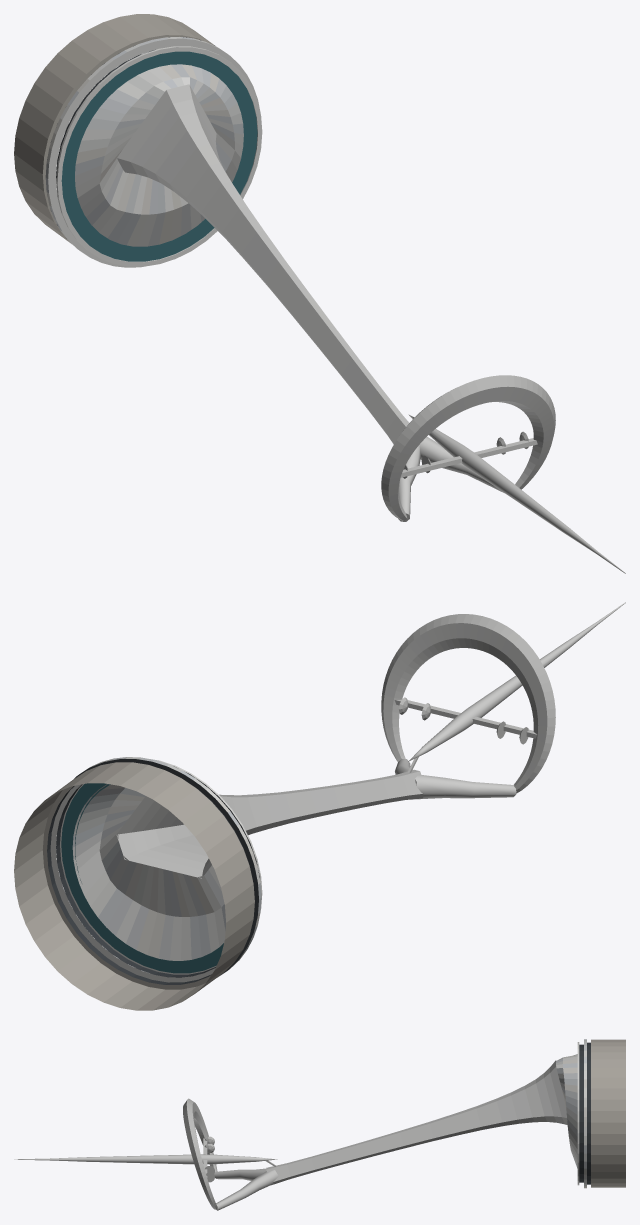
Rendered from torre-calatrava.glb.
3 renders of one model, top to bottom at view 1: azimuth 30°, elevation 25°; view 2: azimuth 150°, elevation 25°; view 3: azimuth 270°, elevation 25°, orthographic. The views are drawn at different scales.
Visible parts, largest first — view 1: torre-calatrava; view 2: torre-calatrava; view 3: torre-calatrava.
Part boxes in pixels (x1=…): torre-calatrava: x1=14, y1=14, x2=625, y2=573; torre-calatrava: x1=14, y1=602, x2=625, y2=1010; torre-calatrava: x1=14, y1=1039, x2=625, y2=1210.
Size of the model in its own units: 35.09 by 38.62 by 144.
